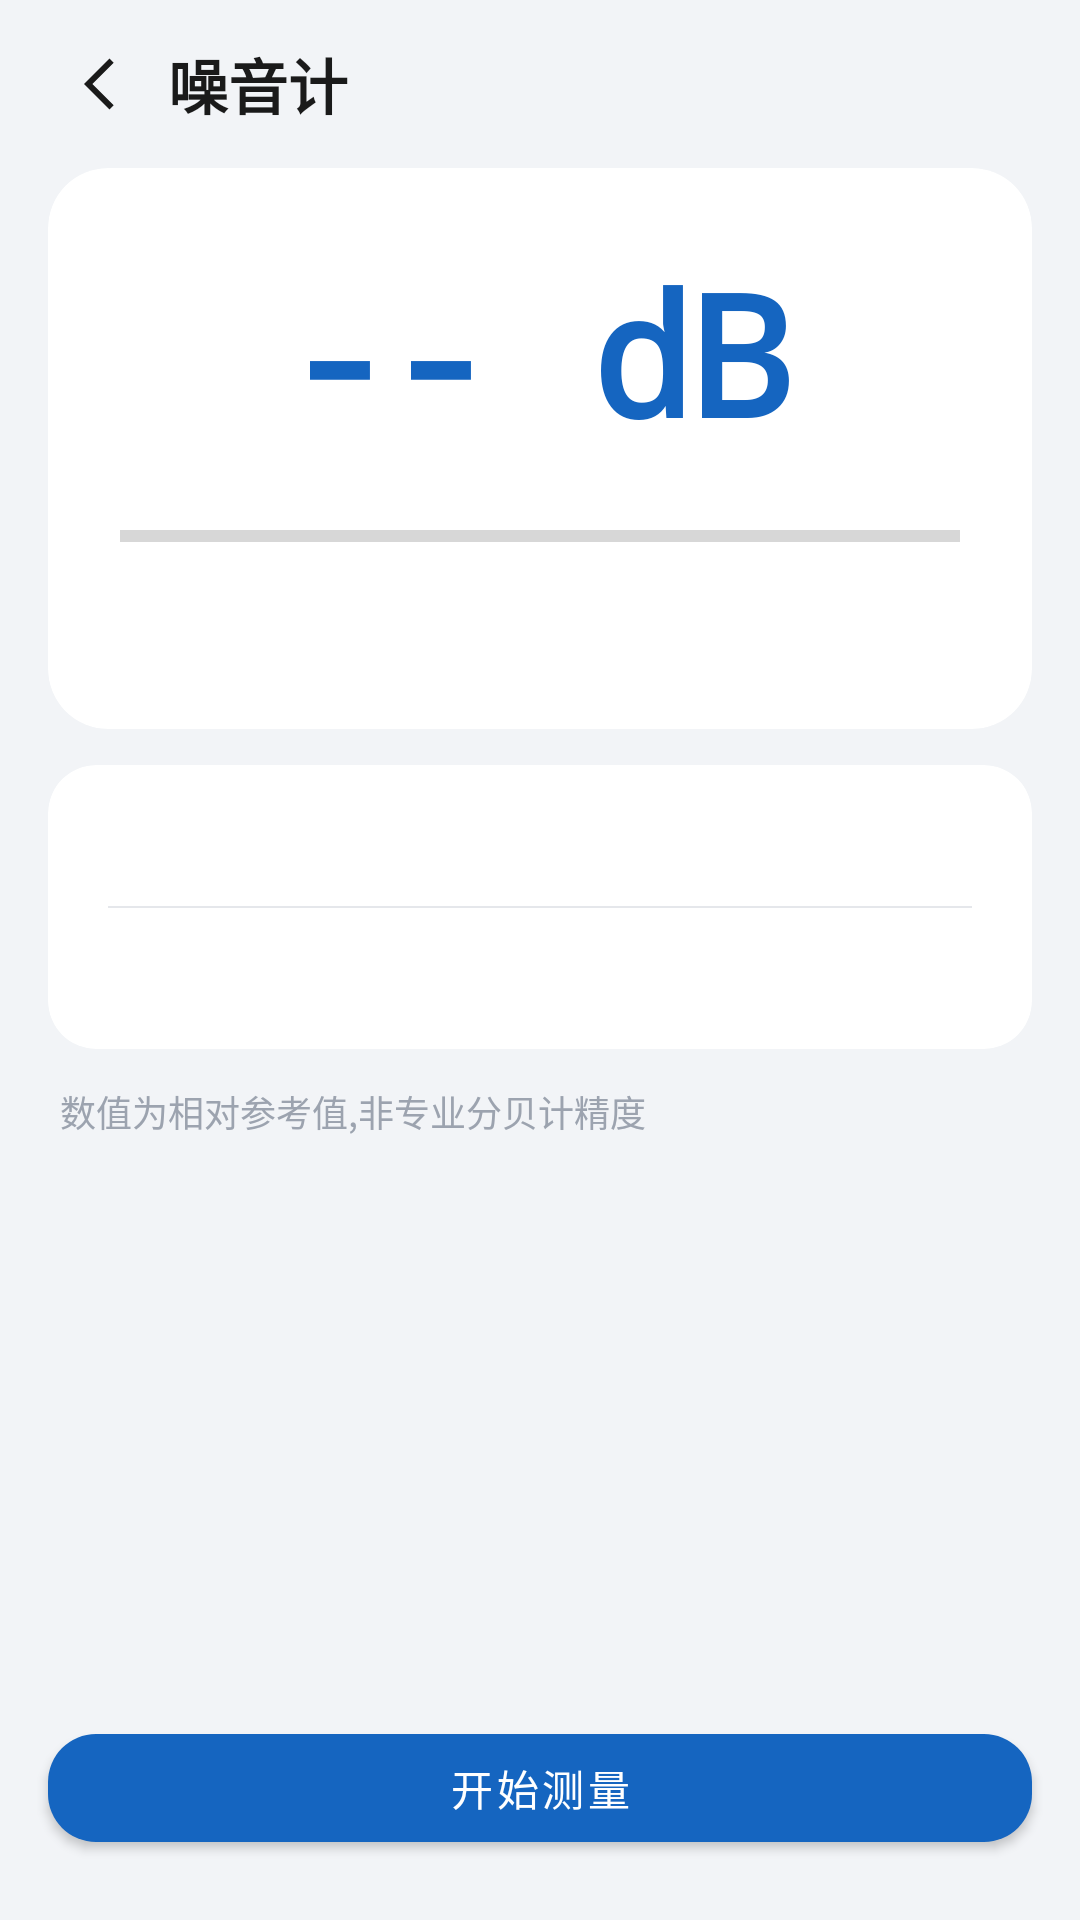

Point at icon controls on the screen. Image size 1080px x 1920px, points as [x,y].
返回: [99,84]
